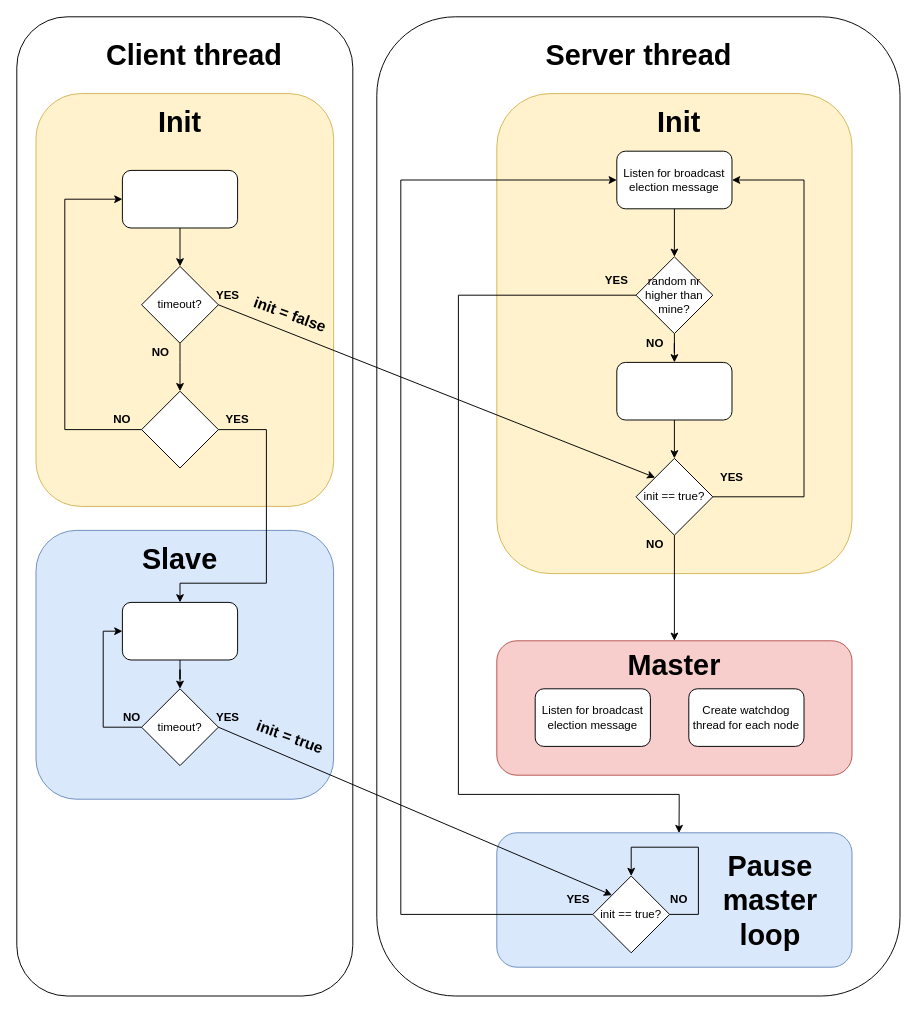
Some shapes in this 917 by 1013 pixel diagram are drawn without their labels. The box of each missing label's shape, as (x1, y1, x2, y2) in pixels:
Broadcast election message + random number and listen for reply: (121, 169, 238, 228)
Listen for color and send ping to master: (121, 601, 238, 660)
message == WELCOME?: (141, 390, 218, 468)
Store node info: (616, 361, 732, 420)
